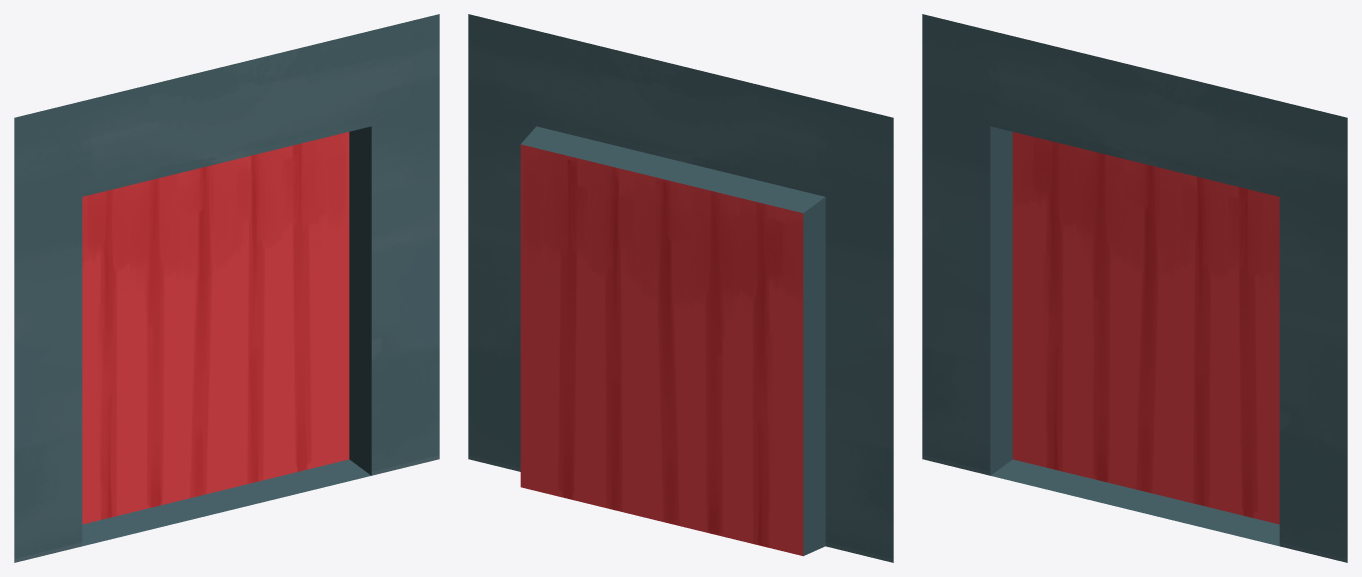
Rendered from m_face_block_garage.FBX.
The picture shows the model from 3 angles, left to right: view 1: azimuth 30°, elevation 25°; view 2: azimuth 150°, elevation 25°; view 3: azimuth 330°, elevation 25°; orthographic projection.
Parts seen in each view (by area): view 1: face_block_garage; view 2: face_block_garage; view 3: face_block_garage.
Boxes of the visible parts, bbox=[...] form: face_block_garage: bbox=[14, 14, 439, 562]; face_block_garage: bbox=[468, 14, 893, 562]; face_block_garage: bbox=[922, 14, 1347, 562].
Bounding box in the file's own units: 100 × 100 × 7.75.
